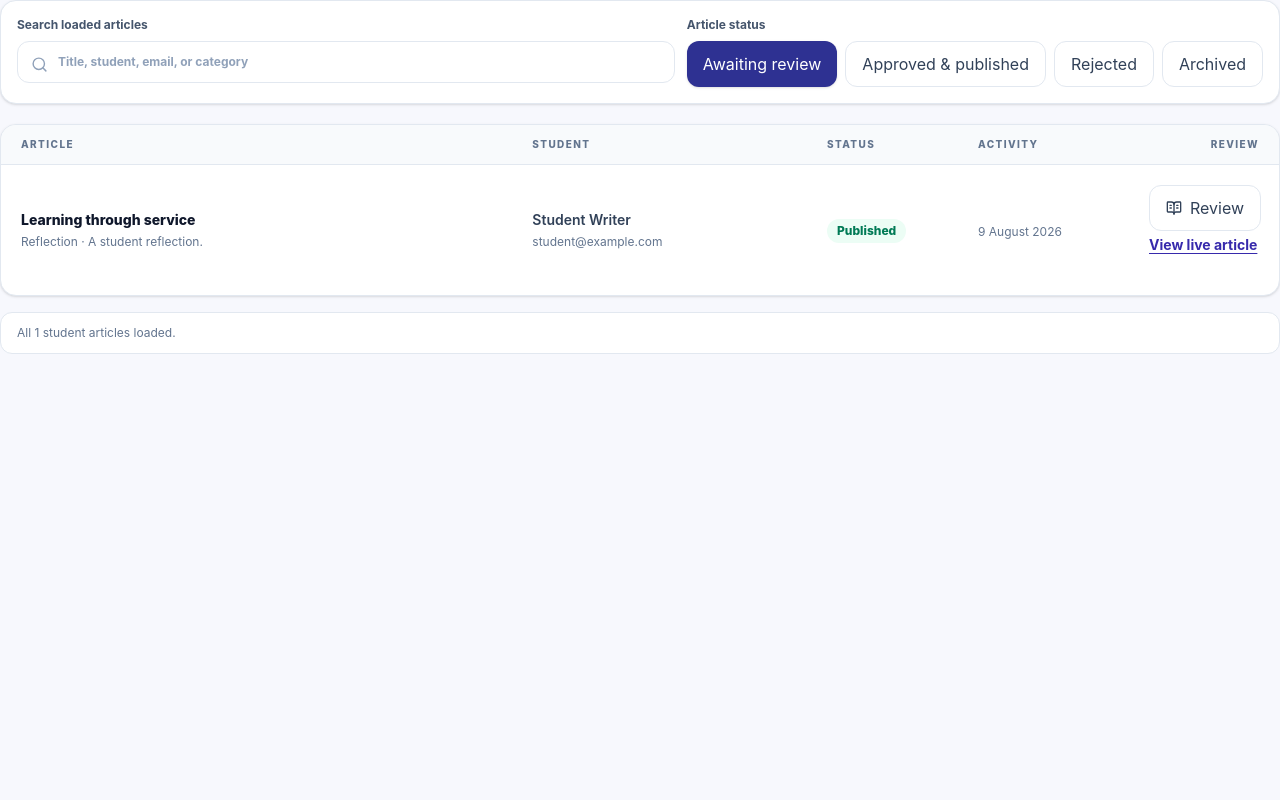
it: student article moderation › requires explicit confirmation before deleting a published record
Later steps or results of the test are not shown.
What coordinates should you click on to do the following:
click the button "Approved & published"
I would click on:
 (946, 64)
Its box is [845,41,1046,87].
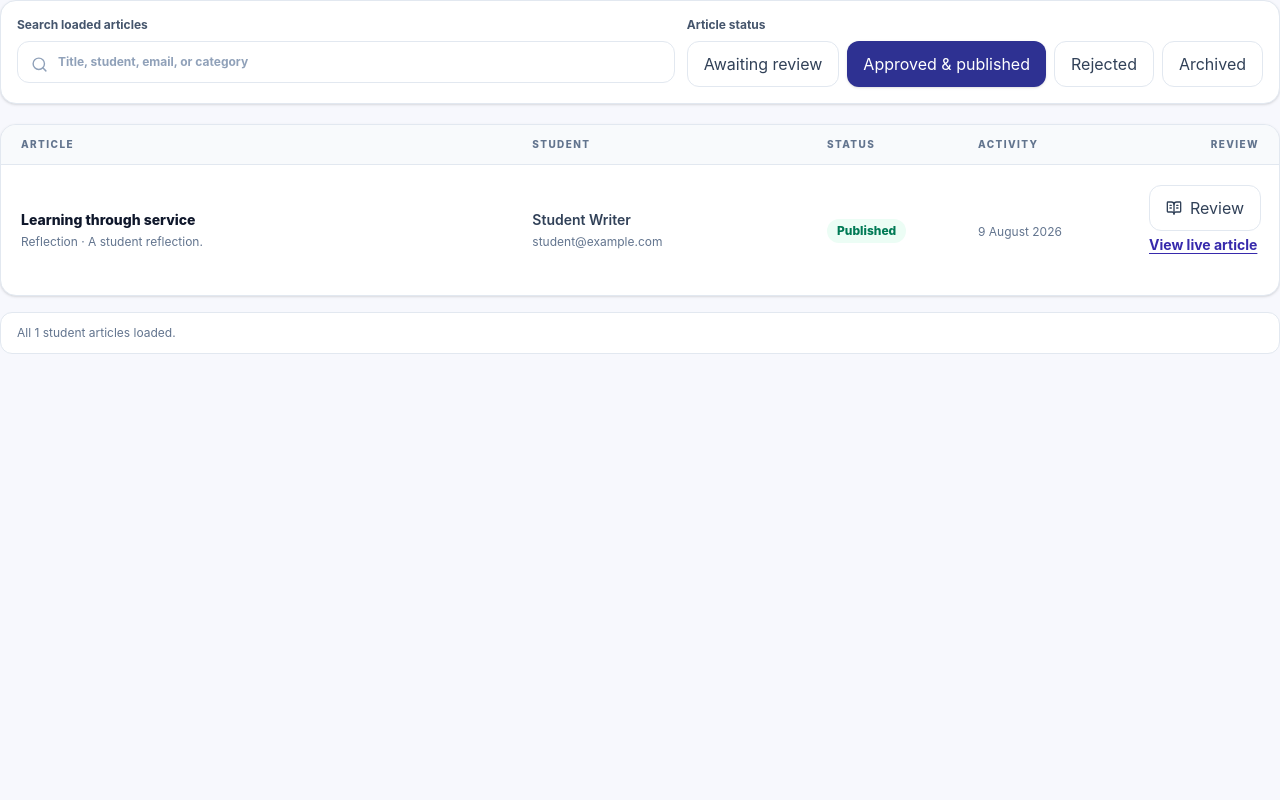
What coordinates should you click on to do the following:
click the button with aria-label "Review Learning through service"
I would click on:
 (1205, 208)
Its box is [1149,185,1261,231].
(page scrolled)
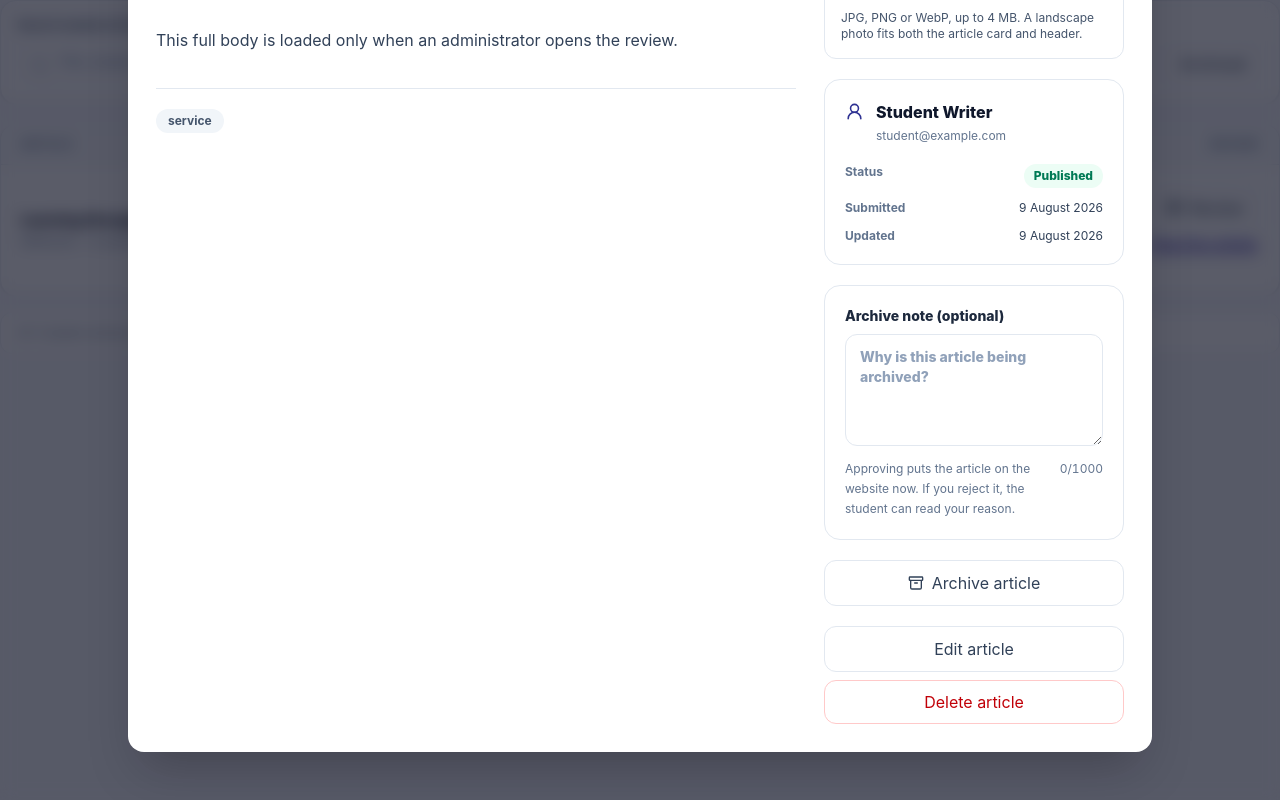
Result: the button "Edit article" is shown at [824,626,1124,672]
